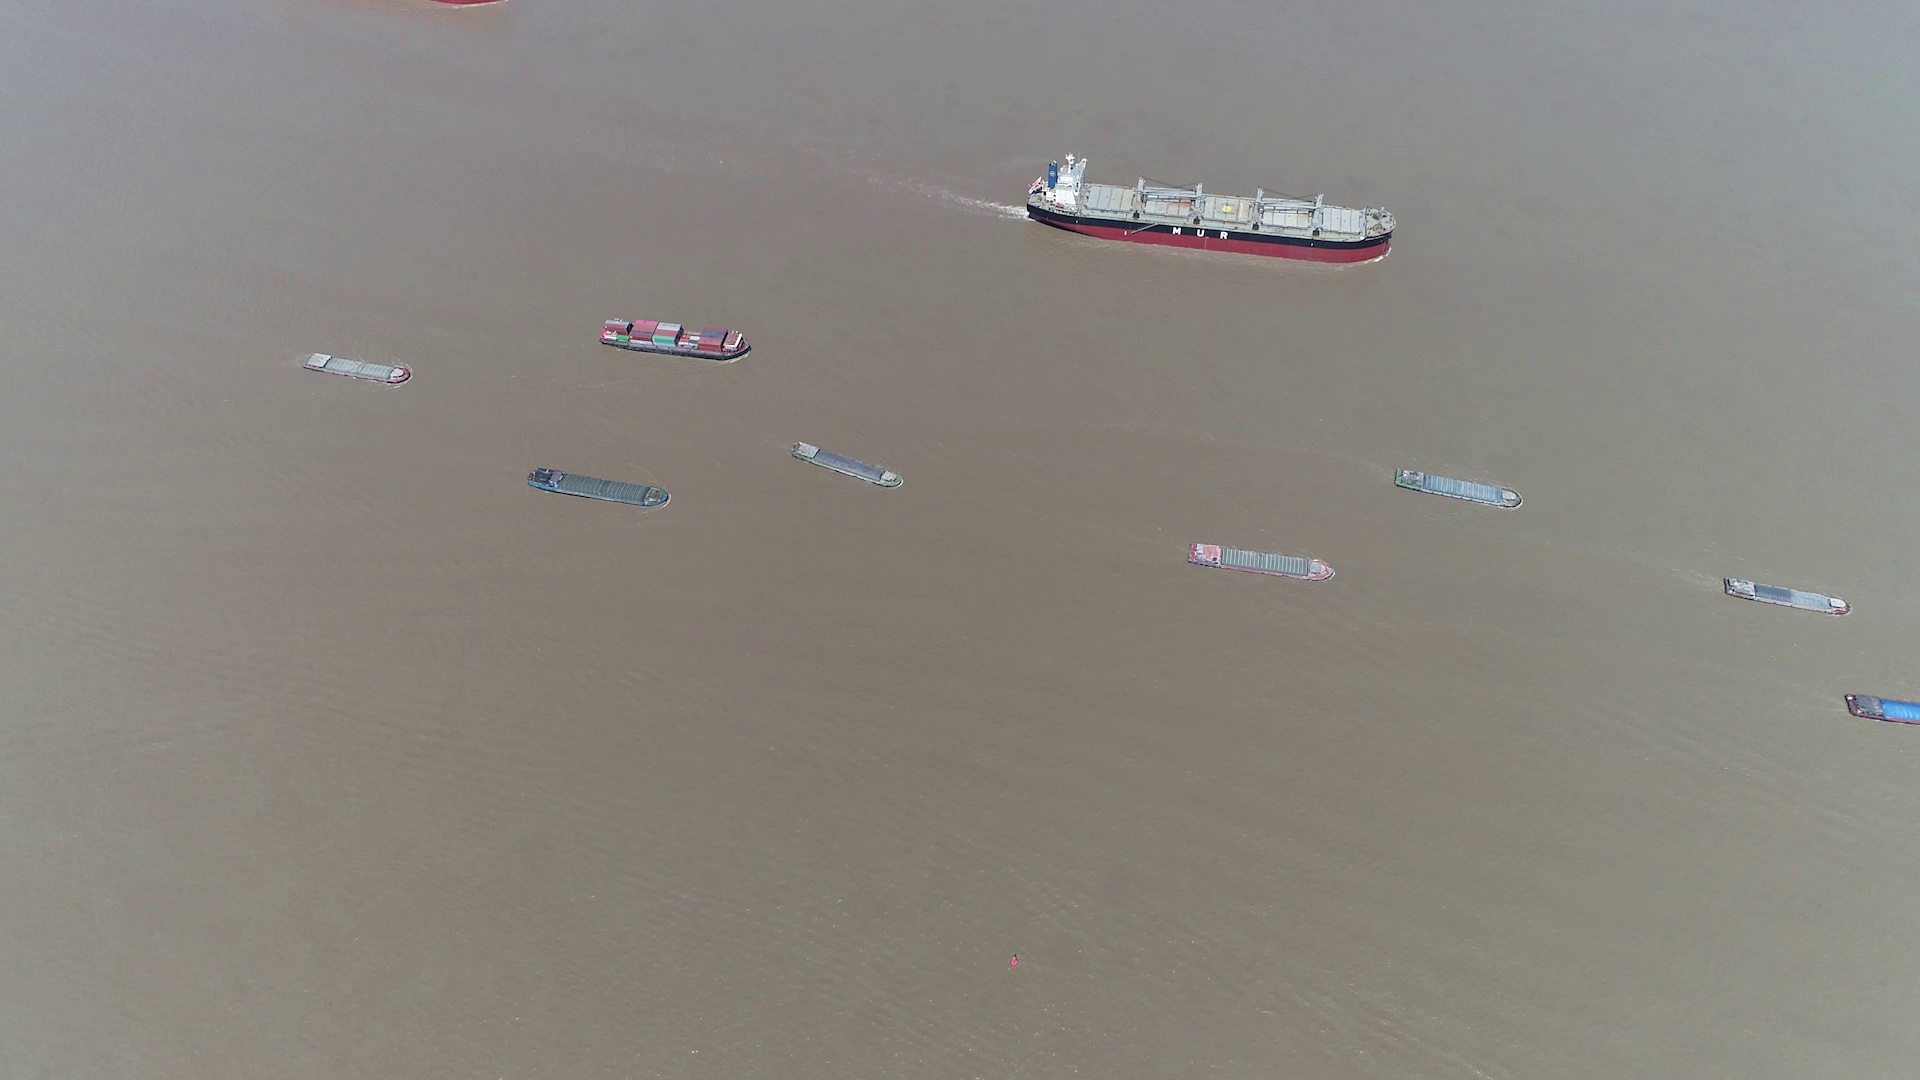ship: (1023, 161, 1395, 260), (601, 319, 752, 360), (1185, 541, 1333, 582), (530, 469, 673, 510), (793, 442, 905, 492), (1393, 469, 1523, 510), (1721, 578, 1849, 617), (303, 352, 414, 384), (1844, 692, 1919, 727)
